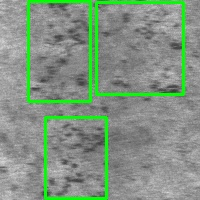rolled-in_scale: (96, 2, 183, 94), (28, 1, 90, 101), (45, 117, 106, 198)
